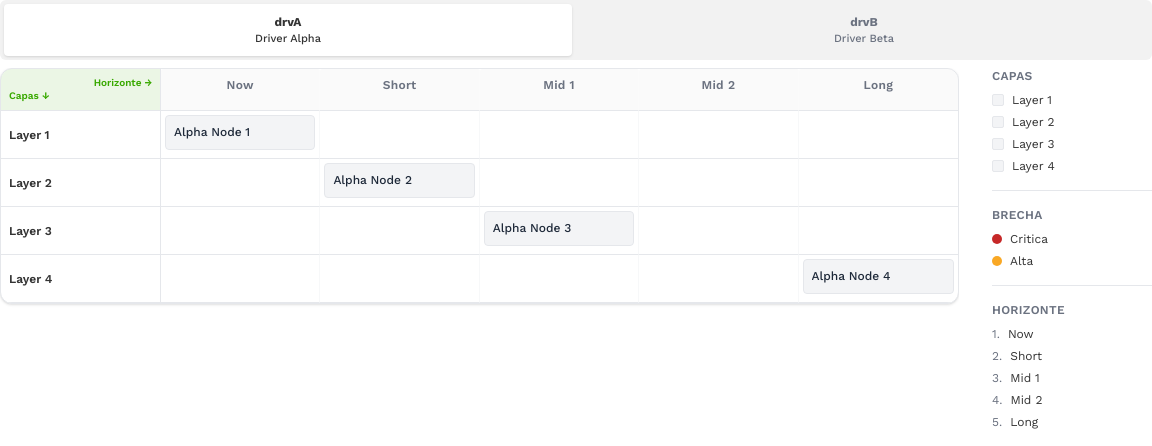
Scenario: TrajectoryMap › shows empty state when selected driver has no items
Click the tab "drvB Driver Beta" at (864, 30), box [580,4,1148,56]
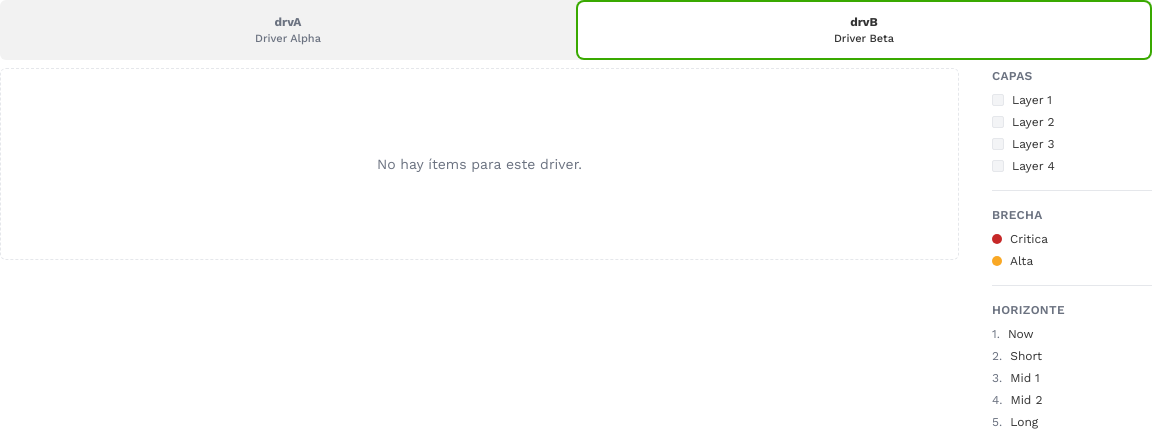
Check: the text "No hay ítems para este driver." is shown, box [0,68,959,260]
